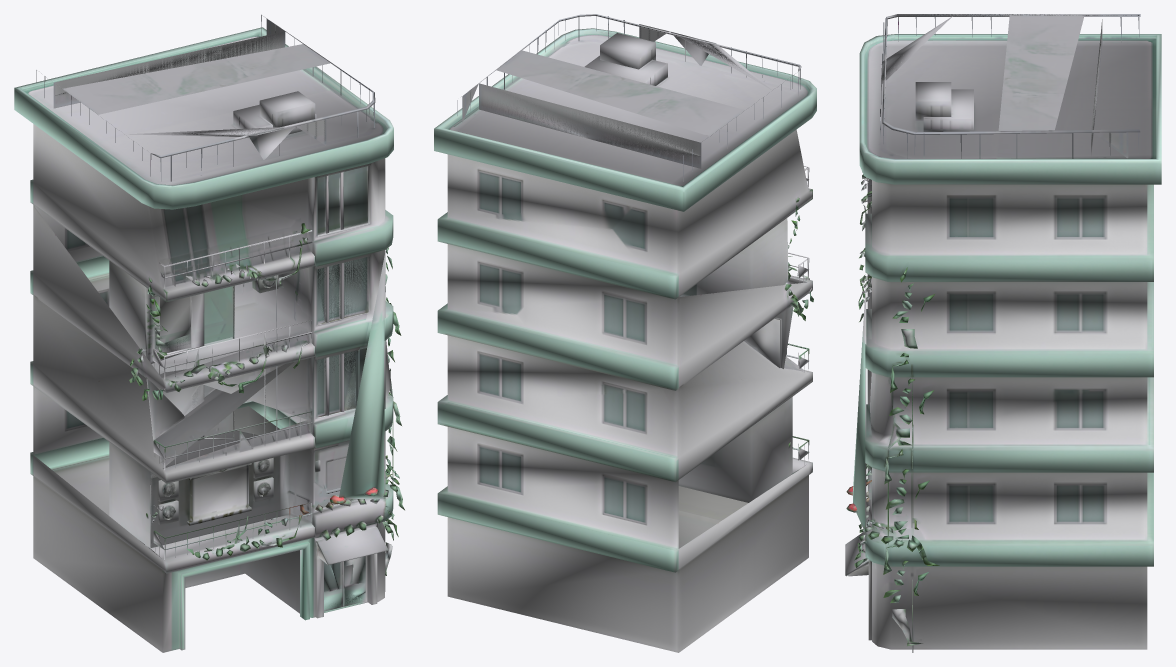
File: bldg_pastel.glb
3 renders of one model, left to right at view 1: azimuth 30°, elevation 25°; view 2: azimuth 150°, elevation 25°; view 3: azimuth 270°, elevation 25°, orthographic. The views are drawn at different scales.
Parts seen in each view (by area): view 1: tripo_node_3c52542b-211e-4521-8e54-5894ad6a7644; view 2: tripo_node_3c52542b-211e-4521-8e54-5894ad6a7644; view 3: tripo_node_3c52542b-211e-4521-8e54-5894ad6a7644.
Boxes of the visible parts, <box> form: tripo_node_3c52542b-211e-4521-8e54-5894ad6a7644: <box>14,14,404,652</box>; tripo_node_3c52542b-211e-4521-8e54-5894ad6a7644: <box>434,14,816,652</box>; tripo_node_3c52542b-211e-4521-8e54-5894ad6a7644: <box>845,14,1161,652</box>.
Bounding box in the file's own units: 0.5566 × 0.998 × 0.5527.
1 material, 1 textured.
